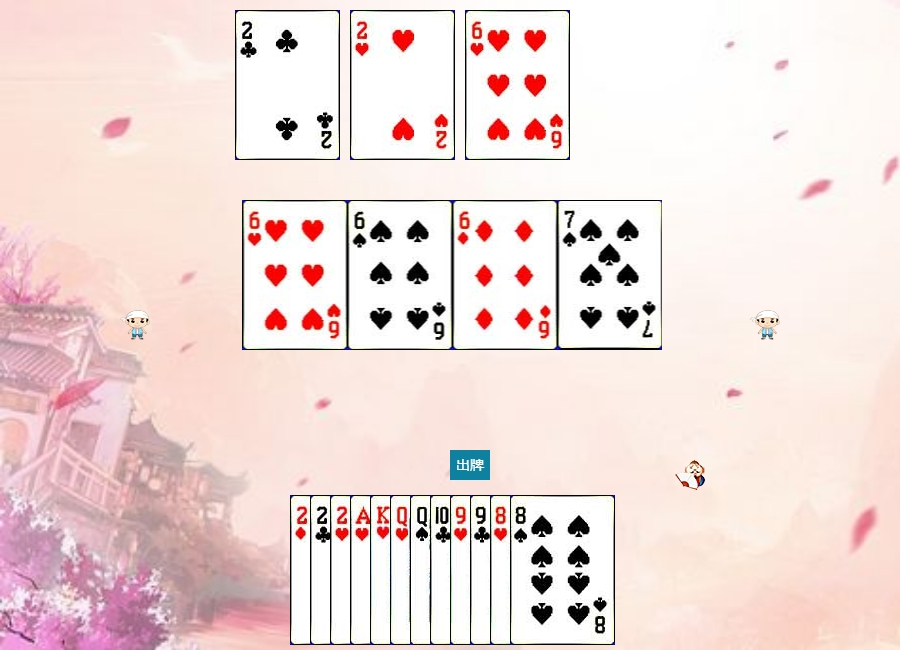10~2: (430, 495, 535, 645)
12~3: (390, 495, 495, 645)
12~4: (410, 495, 515, 645)
13~3: (370, 495, 475, 645)
14~3: (350, 495, 455, 645)
15~1: (290, 495, 395, 645)
15~2: (235, 10, 340, 160), (310, 495, 415, 645)
15~3: (350, 10, 455, 160), (330, 495, 435, 645)
6~1: (453, 200, 558, 350)
6~3: (465, 10, 570, 160), (243, 200, 348, 350)
6~4: (348, 200, 453, 350)
7~4: (558, 200, 663, 350)
8~3: (490, 495, 595, 645)
8~4: (510, 495, 615, 645)
9~2: (470, 495, 575, 645)
9~3: (450, 495, 555, 645)
